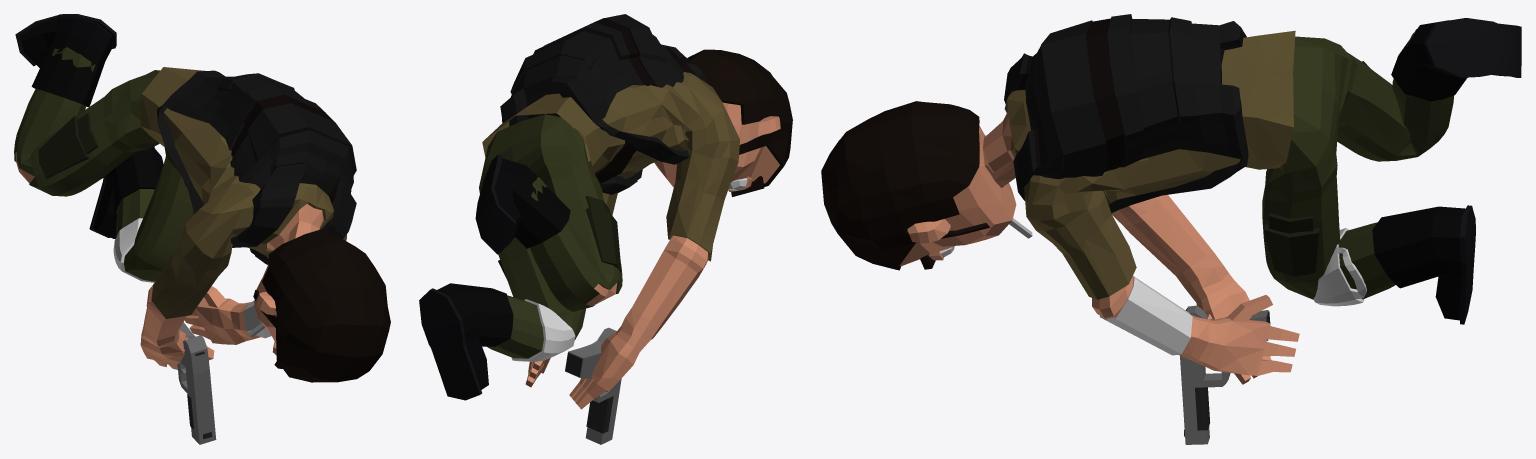
Rendered from frame_0021.obj.
The picture shows the model from 3 angles, left to right: view 1: azimuth 30°, elevation 25°; view 2: azimuth 150°, elevation 25°; view 3: azimuth 270°, elevation 25°; orthographic projection. The views are drawn at different scales.
Visible parts, largest first — view 1: Body, Gun; view 2: Body, Gun; view 3: Body, Gun.
Part boxes in pixels (<box>): Body: <box>14,14,390,382</box>; Gun: <box>177,322,216,444</box>; Body: <box>419,14,792,409</box>; Gun: <box>565,327,621,444</box>; Body: <box>821,14,1521,384</box>; Gun: <box>1180,305,1270,444</box>.
Bounding box in the file's own units: 1.34 × 2.37 × 3.43.
